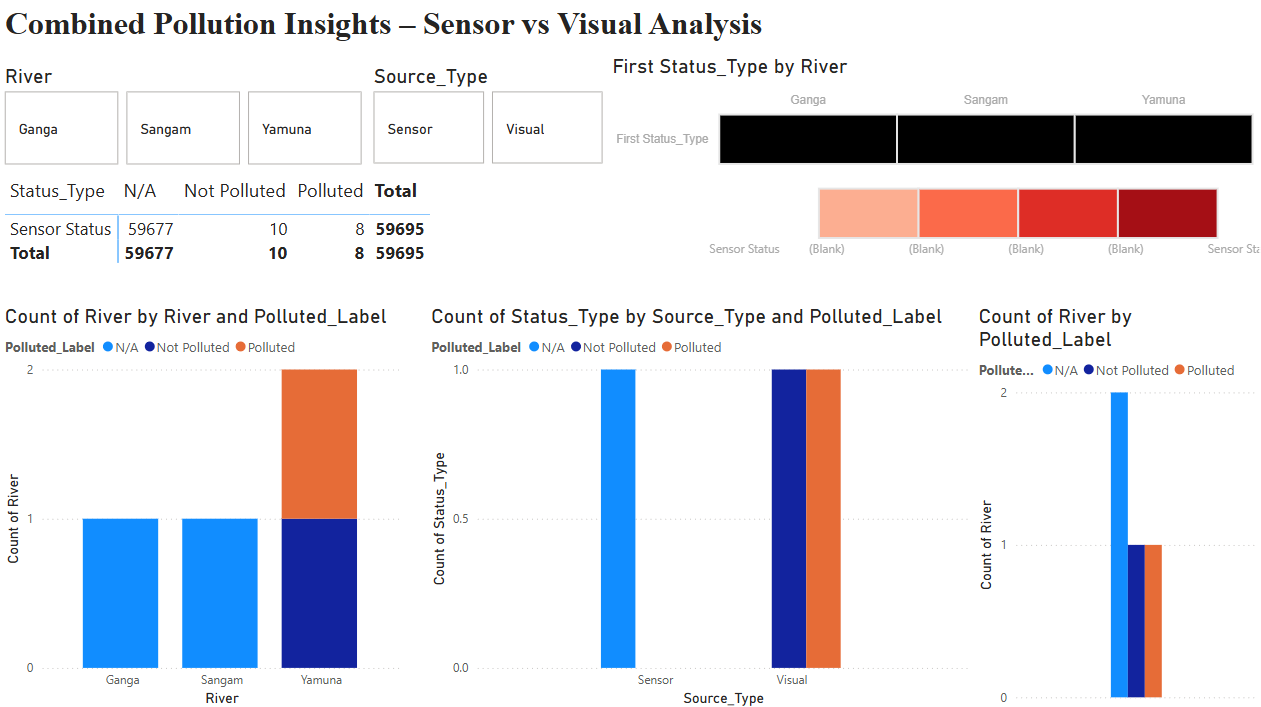

Layout of this report page (visuals, bound fields, positions):
{"tool":"powerbi","page":{"name":"Page 4","canvas":[1280,720],"ordinal":3},"visuals":[{"type":"textbox","box":[0,0,1059.5,64.6],"z":0},{"type":"advancedSlicerVisual","fields":{"Values":["combined_river_data_for_powerbi.River"]},"box":[0,65,372.5,107.5],"z":1000},{"type":"pivotTable","fields":{"Rows":["combined_river_data_for_powerbi.Status_Type"],"Columns":["combined_river_data_for_powerbi.Polluted_Label"],"Values":["CountNonNull(combined_river_data_for_powerbi.Status_Type)"]},"box":[0,172.9,460,117.1],"z":2000},{"type":"advancedSlicerVisual","fields":{"Values":["combined_river_data_for_powerbi.Source_Type"]},"box":[372.9,64.3,242.9,107.1],"z":3000},{"type":"columnChart","fields":{"Category":["combined_river_data_for_powerbi.River"],"Y":["Count(combined_river_data_for_powerbi.River)"],"Series":["combined_river_data_for_powerbi.Polluted_Label"]},"box":[0,307.5,411.2,412.5],"z":4000},{"type":"clusteredColumnChart","fields":{"Series":["combined_river_data_for_powerbi.Polluted_Label"],"Y":["Count(combined_river_data_for_powerbi.Status_Type)"],"Category":["combined_river_data_for_powerbi.Source_Type"]},"box":[431.2,307.5,555,412.5],"z":5000},{"type":"TableHeatMap1443716069308","fields":{"Category":["combined_river_data_for_powerbi.River"],"Y":["Min(combined_river_data_for_powerbi.Status_Type)"]},"box":[615,55,665,252.5],"z":6000},{"type":"lineClusteredColumnComboChart","fields":{"Series":["combined_river_data_for_powerbi.Polluted_Label"],"Y":["Count(combined_river_data_for_powerbi.River)"]},"box":[986.2,307.5,293.8,412.5],"z":7000}]}

Visuals, with their boxes in screenshot pixels (x1, y1, x2, y2), scaled from the page's 1280x720 canvas onto the 1261x707 screenshot:
textbox: bbox(0, 0, 1044, 63)
advancedSlicerVisual - combined_river_data_for_powerbi.River: bbox(0, 64, 367, 169)
pivotTable - combined_river_data_for_powerbi.Status_Type x combined_river_data_for_powerbi.Polluted_Label: bbox(0, 170, 453, 285)
advancedSlicerVisual - combined_river_data_for_powerbi.Source_Type: bbox(367, 63, 607, 168)
columnChart - combined_river_data_for_powerbi.River x Count(combined_river_data_for_powerbi.River): bbox(0, 302, 405, 706)
clusteredColumnChart - combined_river_data_for_powerbi.Polluted_Label x Count(combined_river_data_for_powerbi.Status_Type): bbox(425, 302, 972, 706)
TableHeatMap1443716069308 - combined_river_data_for_powerbi.River x Min(combined_river_data_for_powerbi.Status_Type): bbox(606, 54, 1260, 302)
lineClusteredColumnComboChart - combined_river_data_for_powerbi.Polluted_Label x Count(combined_river_data_for_powerbi.River): bbox(972, 302, 1260, 706)
